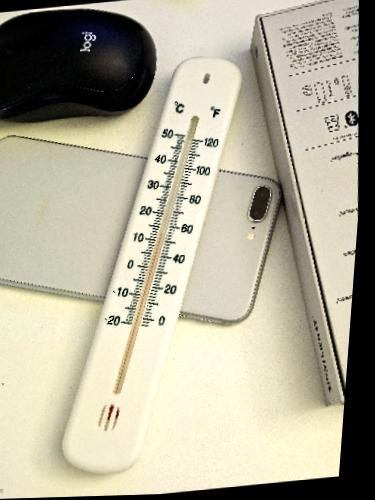thermo: (54, 46, 262, 484)
